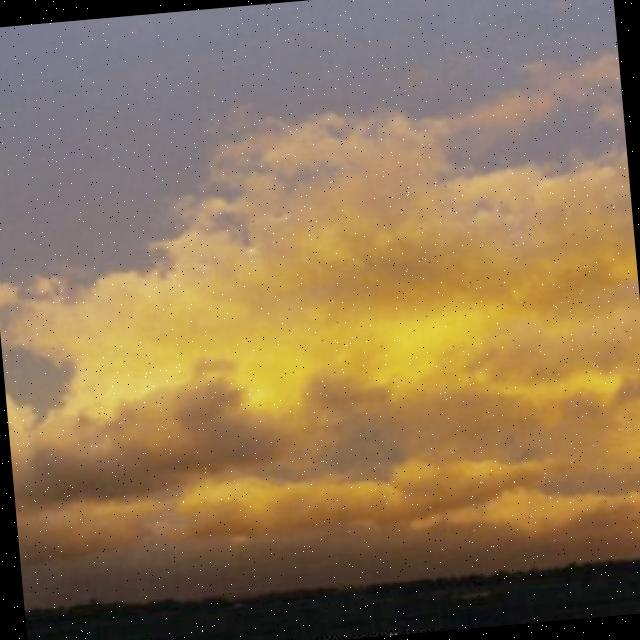As: (1, 1, 640, 570)
